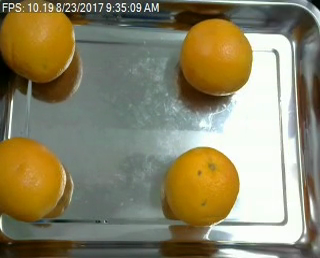Orange: (164, 145, 239, 226), (1, 136, 67, 220), (180, 18, 252, 94), (1, 12, 76, 83)
